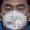with_mask: (1, 2, 30, 30)
